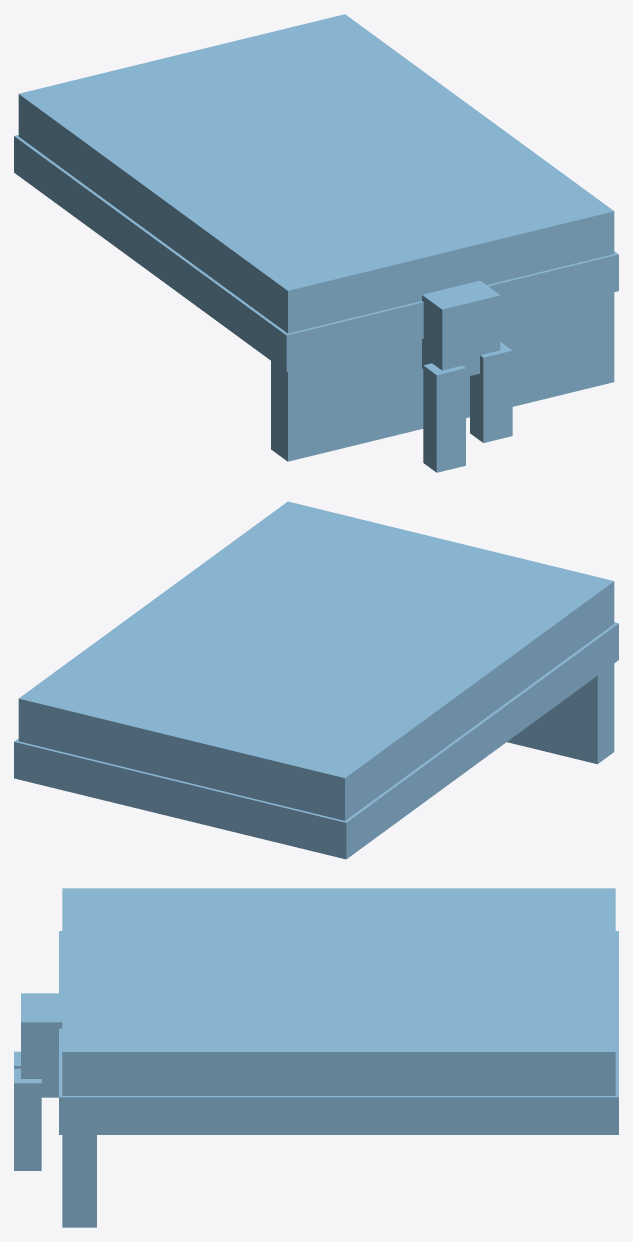
The model's file is touca_cirurgica.glb.
3 views of the same model, one above another, from view 1: azimuth 30°, elevation 25°; view 2: azimuth 150°, elevation 25°; view 3: azimuth 270°, elevation 25° (orthographic). The views are drawn at different scales.
Visible parts, largest first — view 1: touca_cirurgica; view 2: touca_cirurgica; view 3: touca_cirurgica.
Boxes of the visible parts, <box> form: touca_cirurgica: <box>14,14,618,472</box>; touca_cirurgica: <box>14,501,618,859</box>; touca_cirurgica: <box>14,888,618,1227</box>.
Size of the model in its own units: 0.57 by 0.32 by 0.875.
